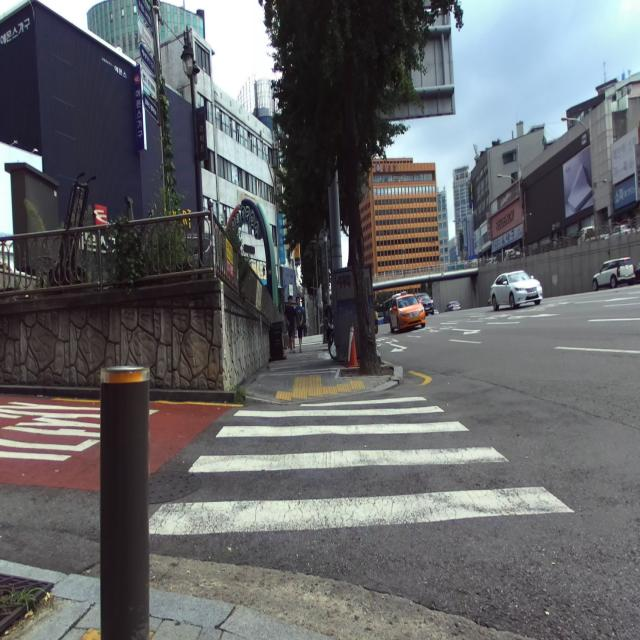횡단보도: (148, 397, 574, 534)
